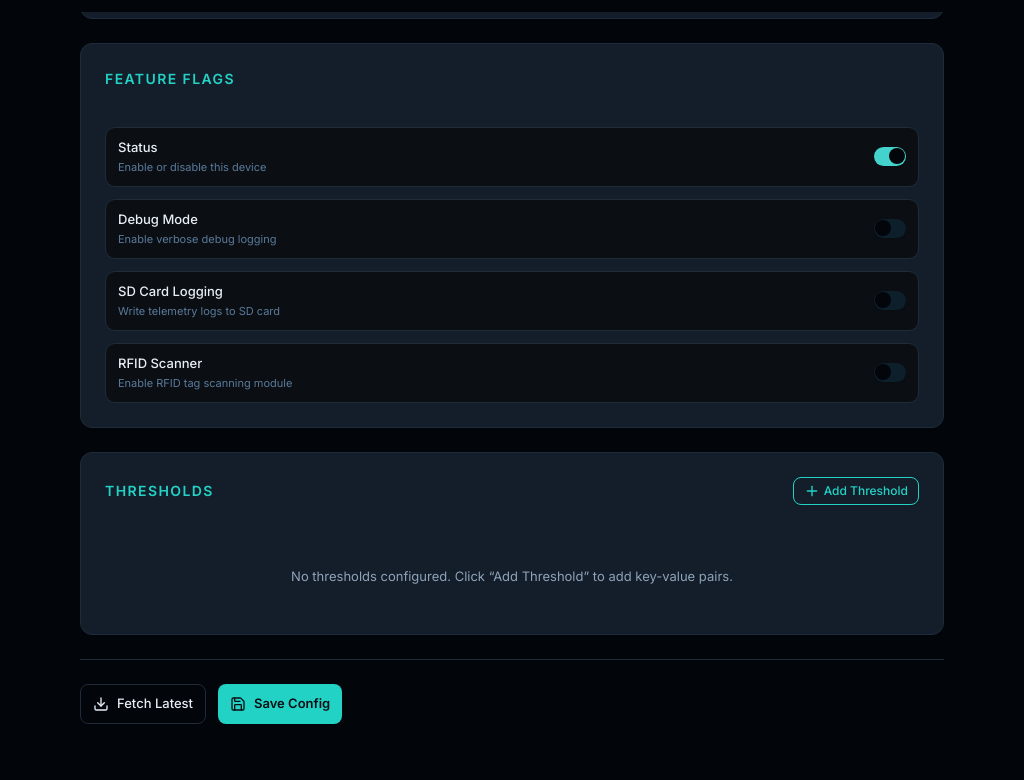
Test: DeviceConfigPage › can add and remove threshold rows
(page scrolled)
Expected: the text "No thresholds configured" is shown, [291,568,733,584]
Click the button "Add Threshold" at (856, 490), box [793,476,919,504]
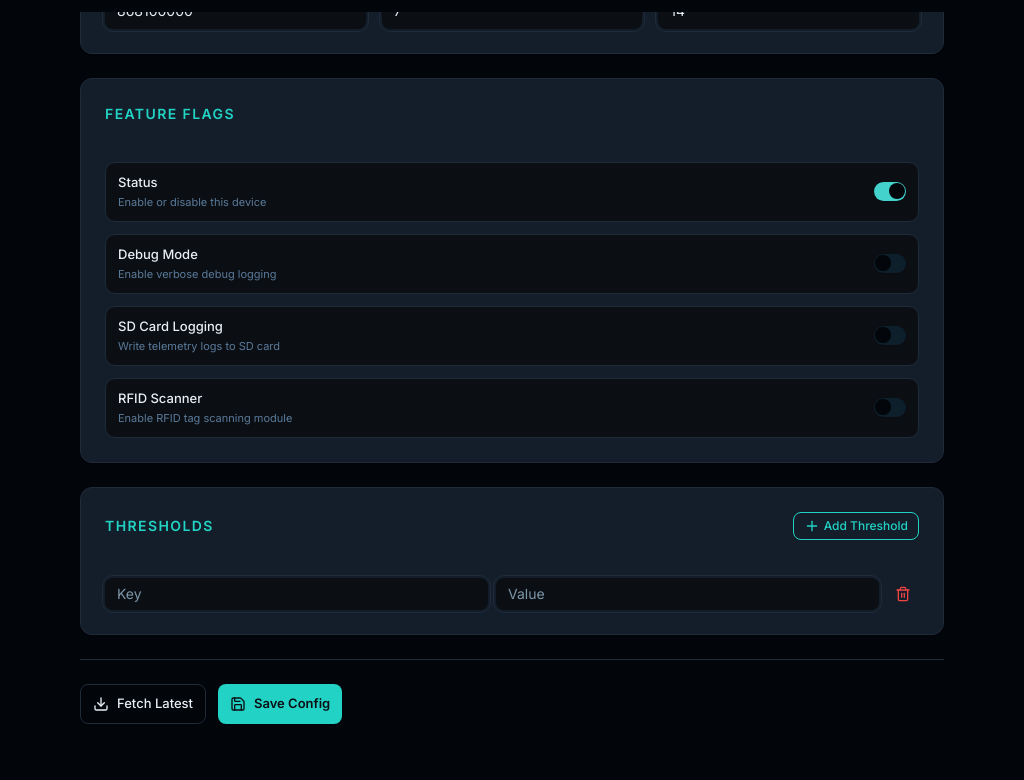
Expected: the number of fields with placeholder "Key" is 1
Type "temp_max" into the field with placeholder "Key" at (296, 594), box [105,578,488,610]
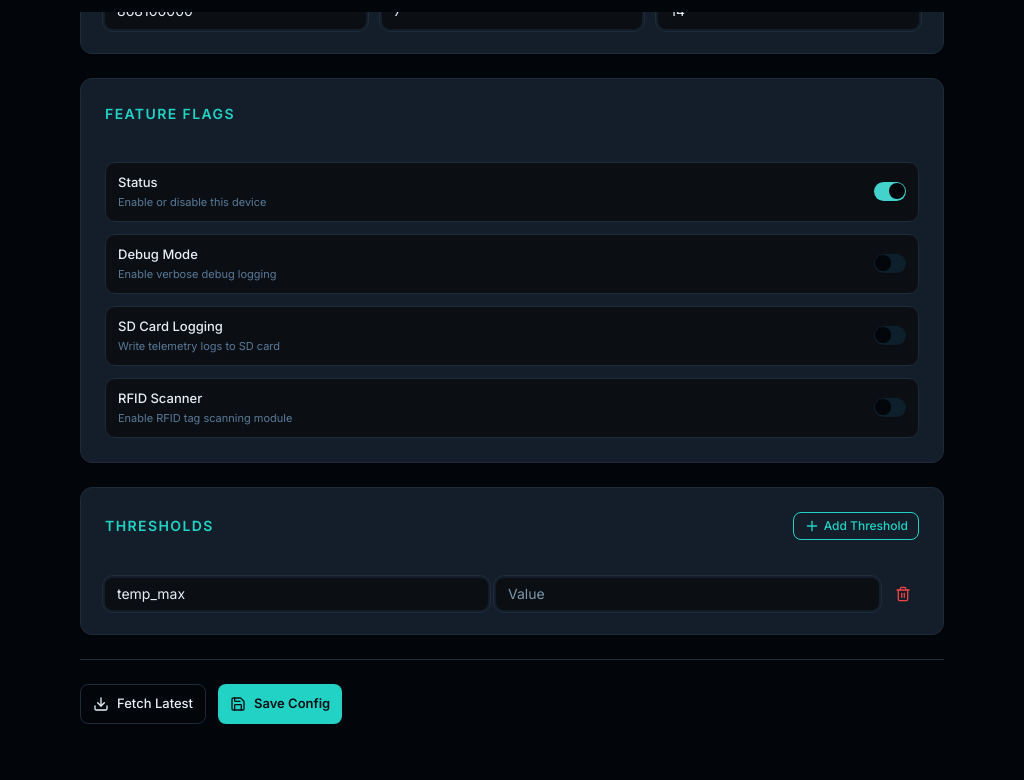
Expected: the 2nd button is shown
Click the 2nd button at (903, 594), box [887,578,919,610]
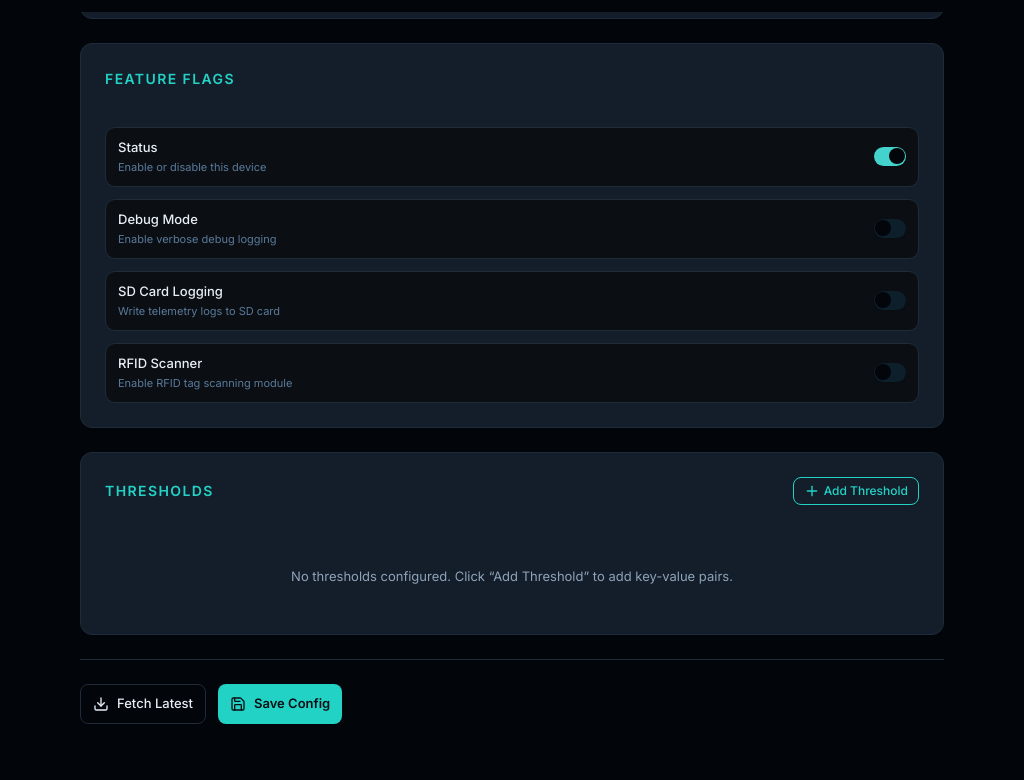
Expected: the text "No thresholds configured" is shown, [291,568,733,584]
